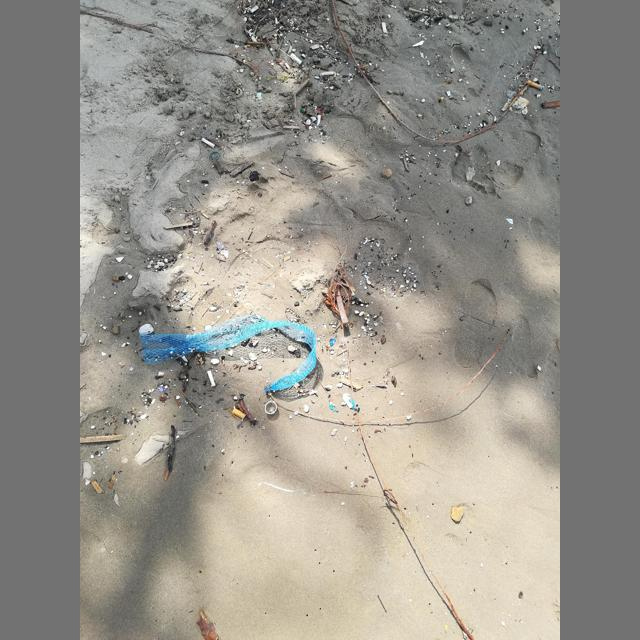litter: (139, 315, 316, 393), (527, 80, 543, 91), (265, 401, 277, 414), (232, 408, 246, 419), (201, 137, 215, 148), (207, 370, 216, 387), (290, 53, 302, 65), (349, 399, 359, 409), (217, 242, 227, 251), (249, 6, 259, 13), (321, 71, 334, 76), (382, 22, 387, 33), (330, 339, 336, 346), (157, 388, 166, 391), (275, 17, 278, 25), (440, 97, 444, 102)
